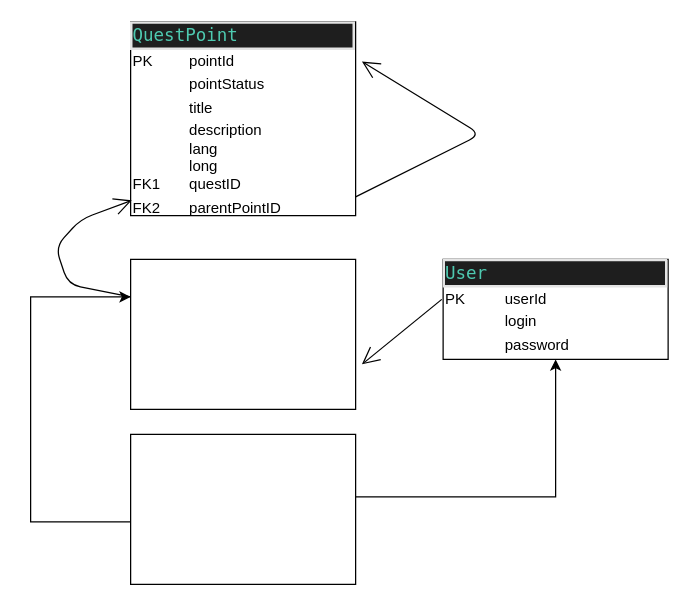
The diagram is 690 pixels wide and 606 high, and some of its shapes have lost their labels. The shapes that lost their labels are listed below. From the top down, each one's centre as x and y in pixels, then its label:
At [242,333]: "Quest PK questID FK1 questPointModel title FK2 creatorID description".
At [242,508]: "Sessions PK sessionID FK1 userID FK2 questID isEnded".
